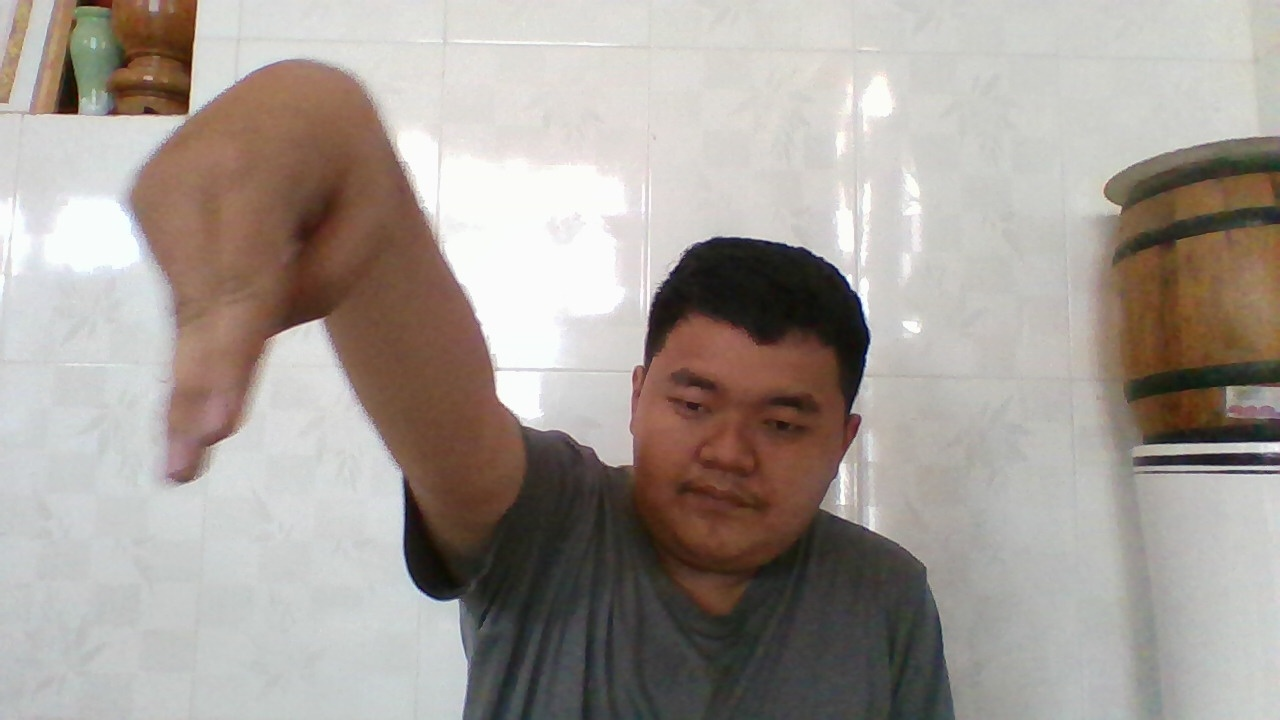N: (128, 56, 392, 483)
